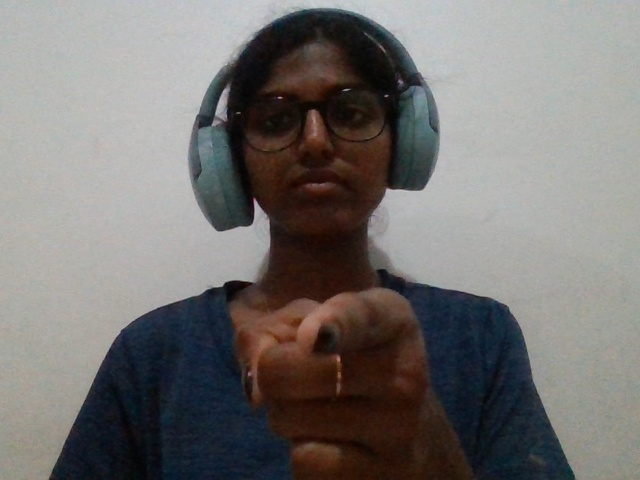You: (203, 262, 523, 480)
